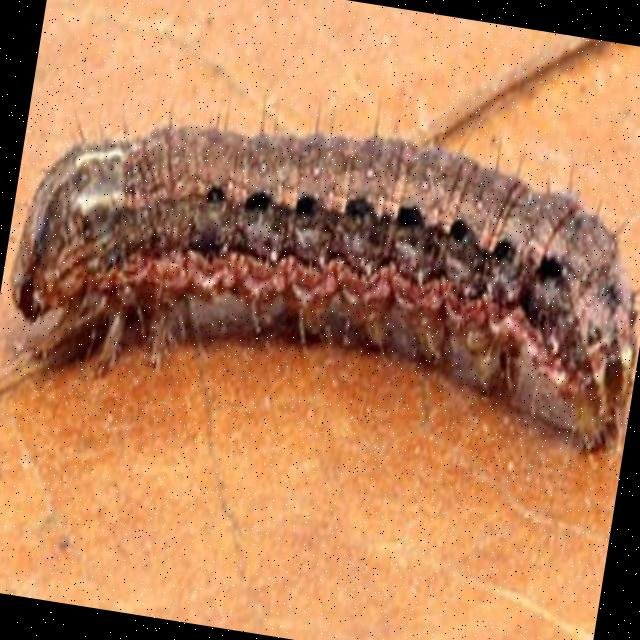worm: (1, 82, 640, 464)
